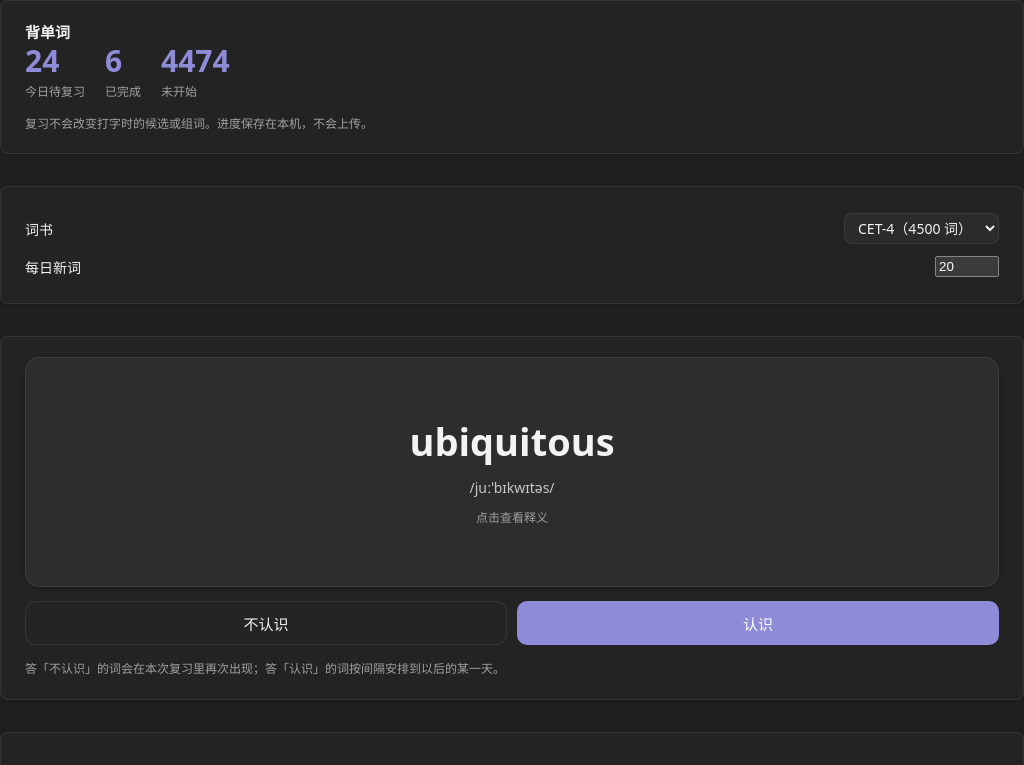
tapping the card reveals the meaning
Click the button with aria-label "显示 ubiquitous 的释义" at (512, 472), box [25,357,999,587]
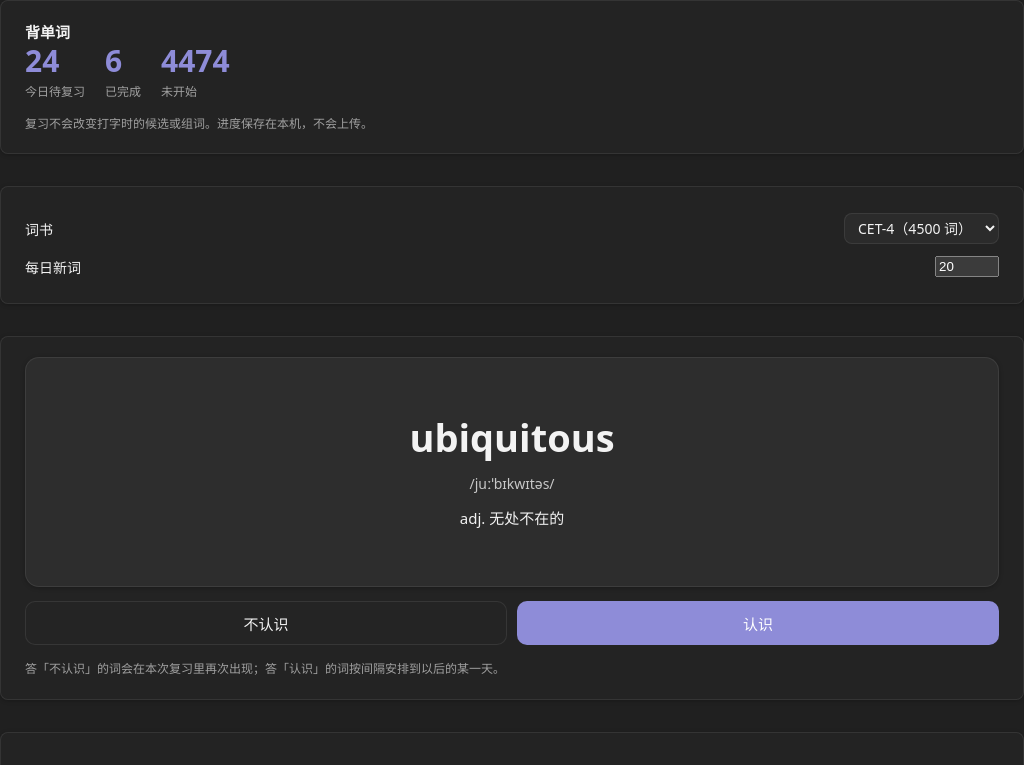
Expected: the text "adj. 无处不在的" is shown, [460,506,564,530]
Expected: the button "点击查看释义" is gone
